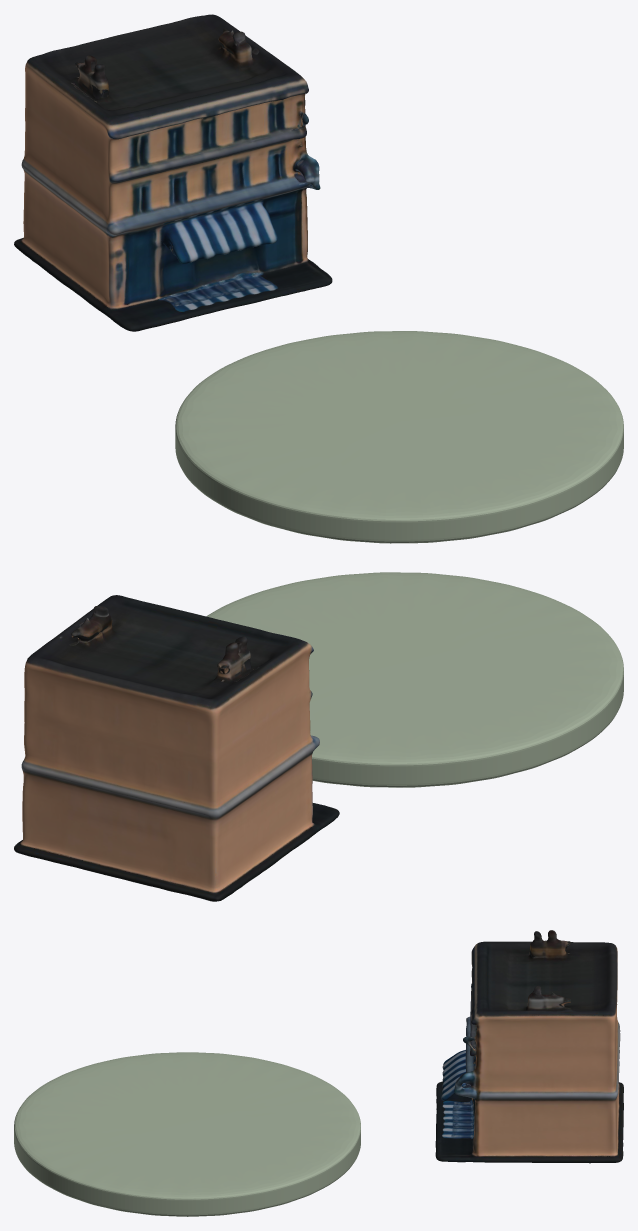
3 renders of one model, top to bottom at view 1: azimuth 30°, elevation 25°; view 2: azimuth 150°, elevation 25°; view 3: azimuth 270°, elevation 25°, orthographic. The views are drawn at different scales.
Visible parts, largest first — view 1: footing_02, bakery; view 2: bakery, footing_02; view 3: footing_02, bakery.
Boxes of the visible parts, <box> form: footing_02: <box>175,331,623,543</box>; bakery: <box>14,14,332,331</box>; bakery: <box>14,595,339,901</box>; footing_02: <box>206,572,623,787</box>; footing_02: <box>14,1052,360,1216</box>; bakery: <box>435,930,623,1163</box>.
Size of the model in its own units: 9.78 by 5.9 by 17.19.
Materials: 2 (1 with a texture image).
